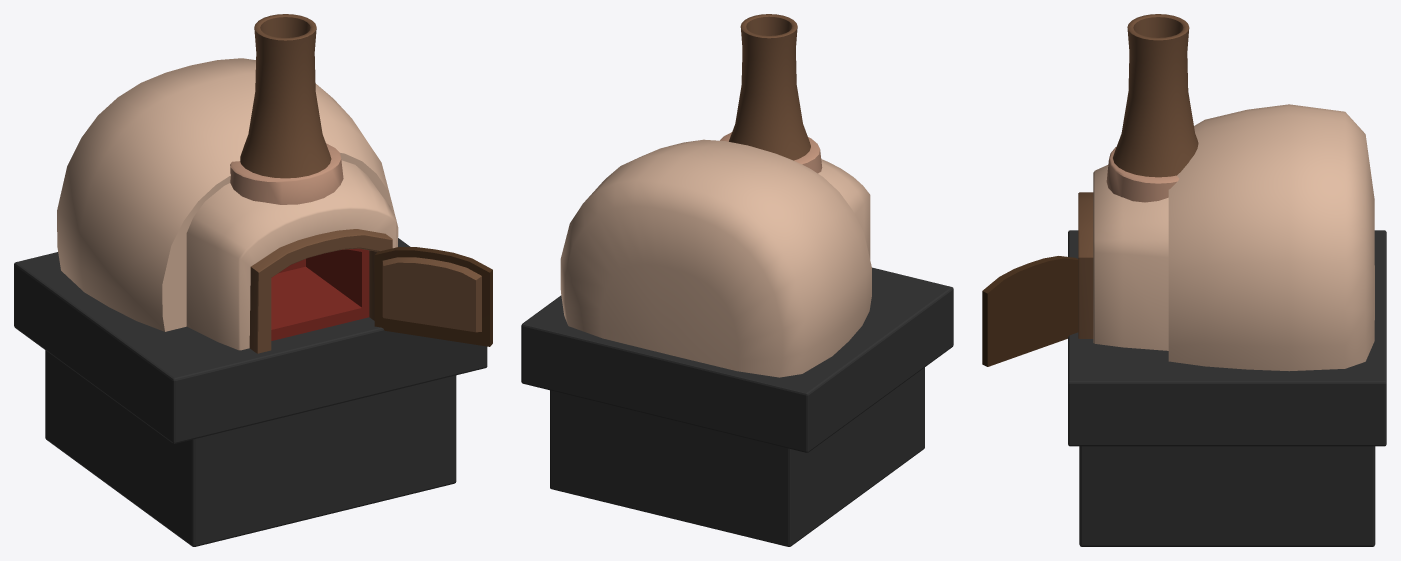
The model's file is oven.fbx.
3 views of the same model, side by side, from view 1: azimuth 30°, elevation 25°; view 2: azimuth 150°, elevation 25°; view 3: azimuth 270°, elevation 25° (orthographic). The views are drawn at different scales.
Visible parts, largest first — view 1: Plane, Cube, Plane.001; view 2: Plane, Cube; view 3: Plane, Cube, Plane.001.
Part boxes in pixels (x1,y1,x2,y2): Plane: (57, 14, 398, 353); Cube: (14, 238, 487, 546); Plane.001: (374, 247, 492, 346); Plane: (560, 14, 871, 377); Cube: (521, 267, 953, 546); Plane: (1078, 14, 1374, 371); Cube: (1068, 230, 1386, 546); Plane.001: (982, 256, 1078, 366).
Size of the model in its own units: 200 by 279 by 224.
